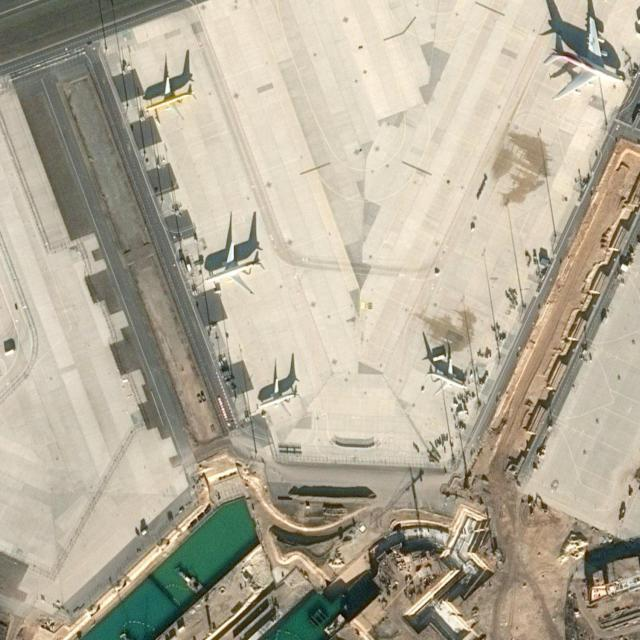Aircraft: (543, 15, 626, 101), (541, 16, 625, 100), (204, 234, 266, 296), (204, 242, 265, 295), (143, 72, 197, 121), (144, 73, 196, 117), (256, 373, 301, 417), (424, 353, 468, 395), (424, 354, 468, 396), (258, 373, 299, 415)
